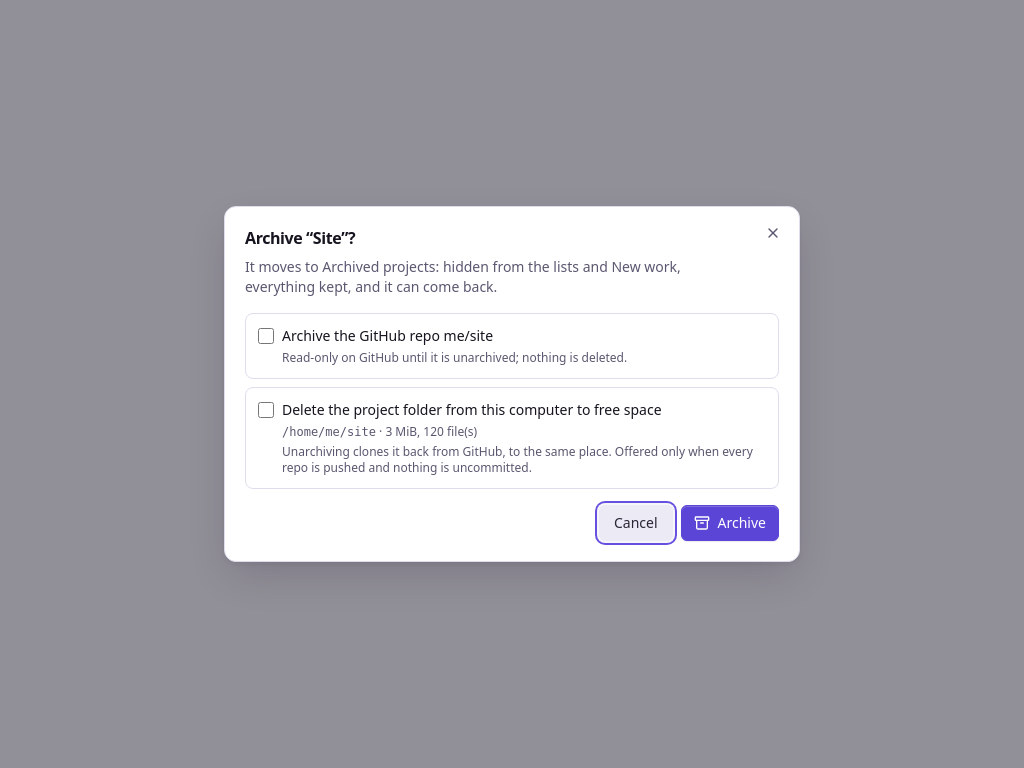
Test: archiving a project › offers to archive its GitHub repo and delete its folder, the name typed for the folder
This screenshot has width=1024, height=768.
expect the text "moves to Archived projects" is shown: met, box [245,257,681,296]
Click the checkbox labelled "Archive the GitHub repo me/site".
click(266, 336)  # box [258,328,274,344]
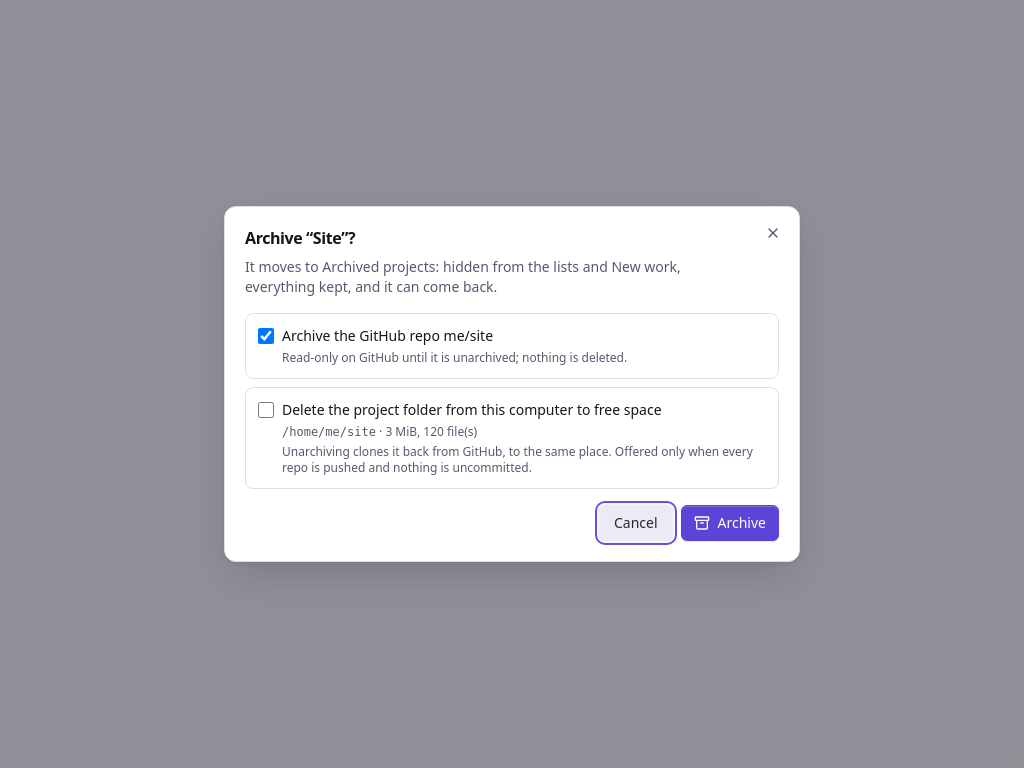
Click the checkbox labelled "Delete the project folder from this computer to free space".
click(266, 410)  # box [258,402,274,418]
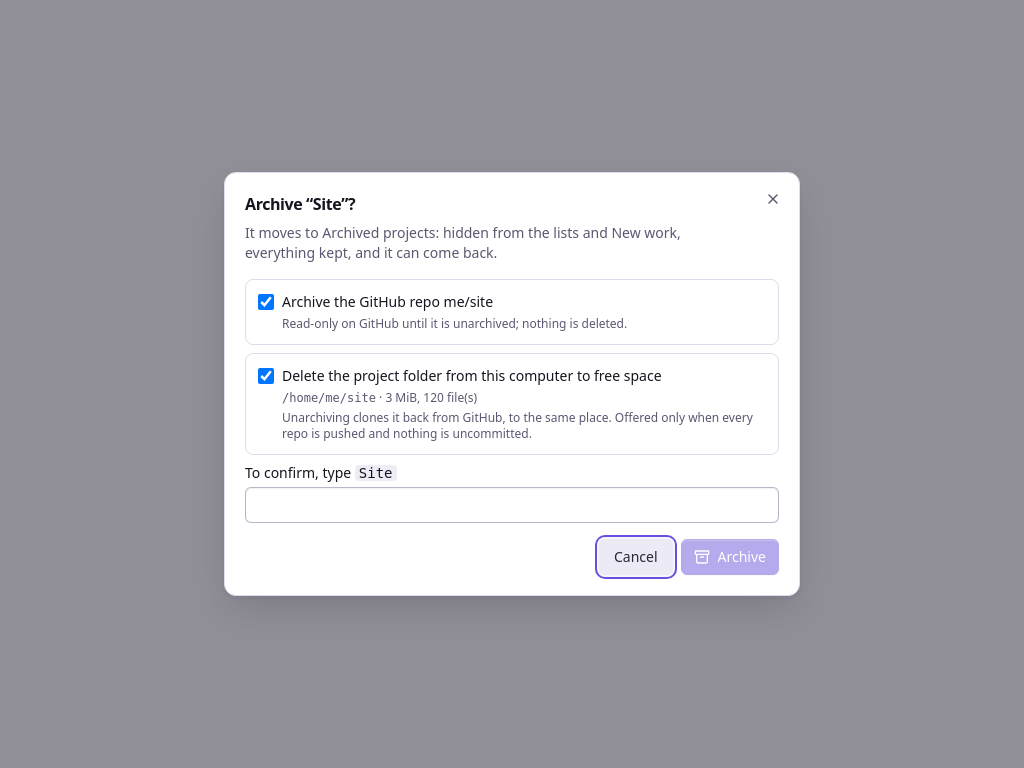
expect the button "Archive" is disabled: met, box [680,539,779,575]
Type "Site" into the field labelled "Type Site to confirm".
click(512, 505); type("Site")  # box [245,487,779,523]
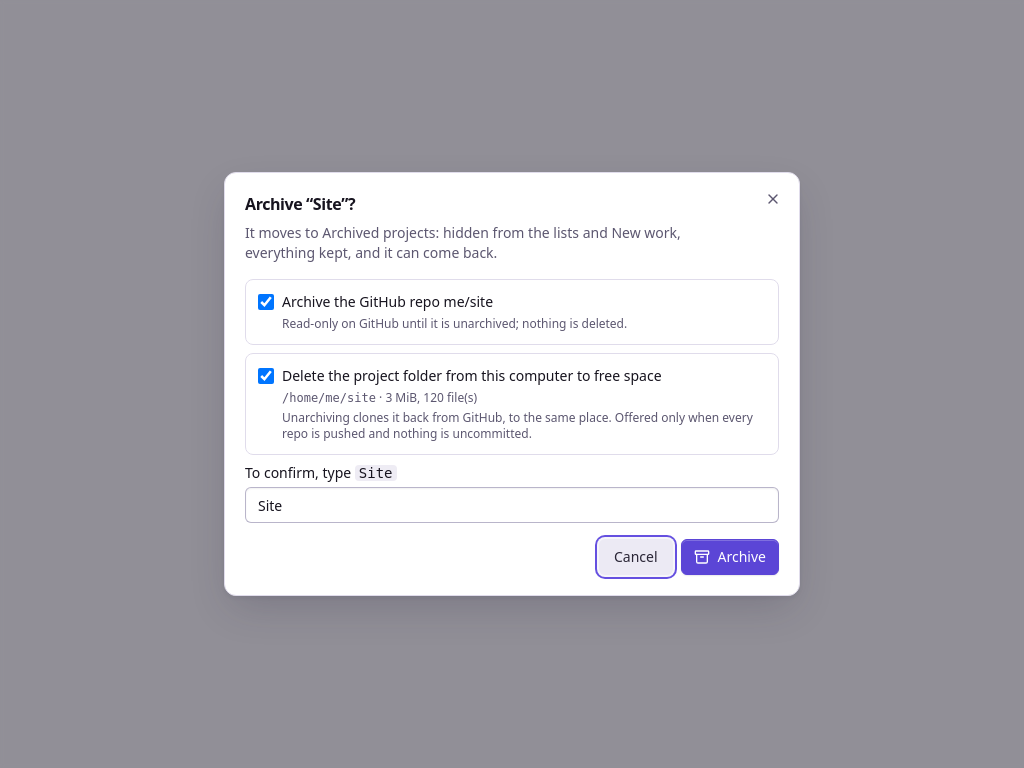
Click the button "Archive".
click(730, 557)  # box [680,539,779,575]
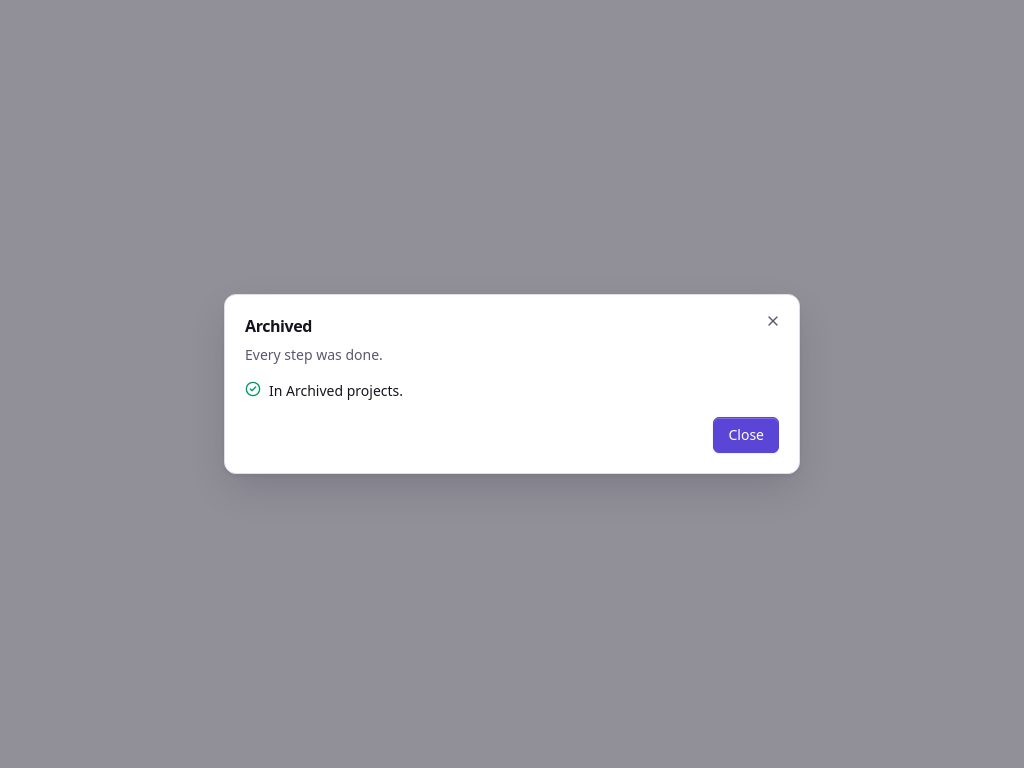
expect the text "In Archived projects." is shown: met, box [269,381,403,401]
